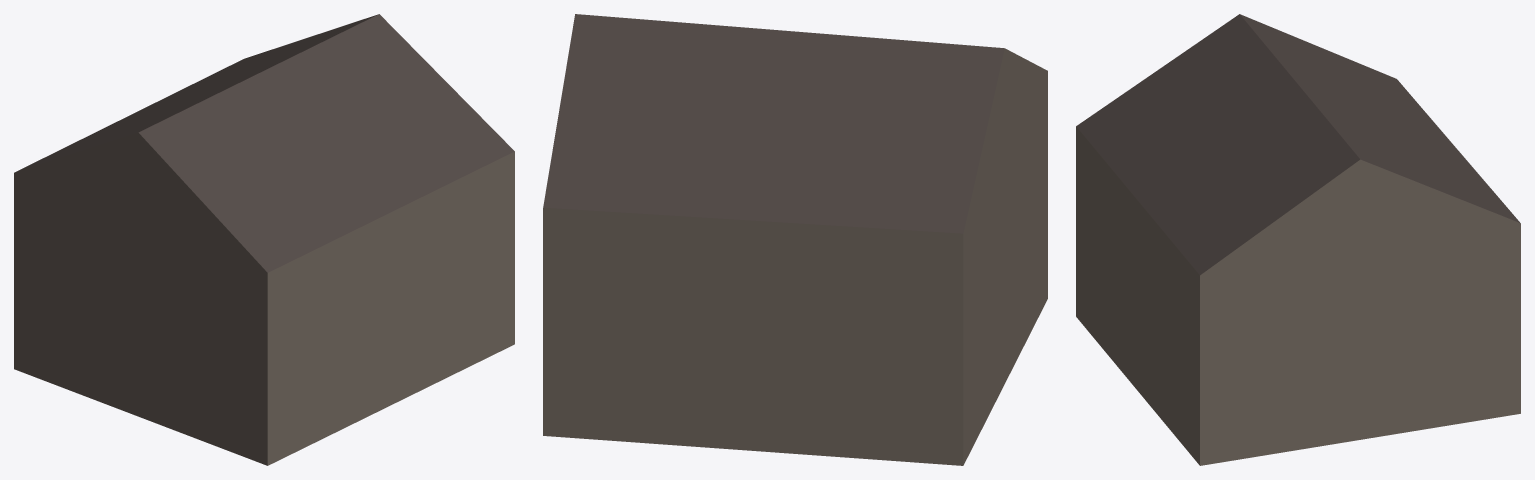
The picture shows the model from 3 angles, left to right: view 1: azimuth 30°, elevation 25°; view 2: azimuth 150°, elevation 25°; view 3: azimuth 270°, elevation 25°; orthographic projection. The views are drawn at different scales.
Visible parts, largest first — view 1: HP-w1198664274; view 2: HP-w1198664274; view 3: HP-w1198664274.
Part boxes in pixels (x1,y1,x2,y2): HP-w1198664274: (14, 14, 514, 465); HP-w1198664274: (543, 14, 1047, 465); HP-w1198664274: (1076, 14, 1520, 465).
Size of the model in its own units: 13.04 by 8.83 by 12.69.
